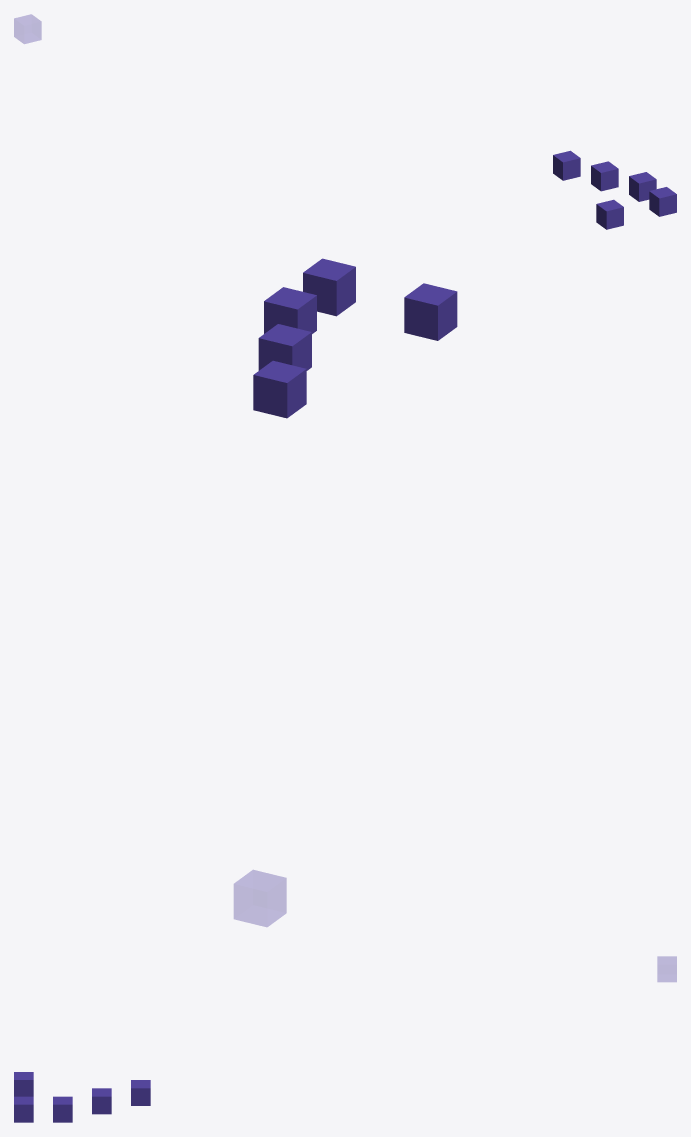
3 renders of one model, top to bottom at view 1: azimuth 30°, elevation 25°; view 2: azimuth 150°, elevation 25°; view 3: azimuth 270°, elevation 25°, orthographic. The views are drawn at different scales.
Parts seen in each view (by area): view 1: object-Cube (×5), void-obj-placeholder-obj; view 2: object-Cube (×5), void-obj-placeholder-obj; view 3: object-Cube (×5), void-obj-placeholder-obj.
Boxes of the visible parts, <box> form: object-Cube (×5): <box>553,150,676,229</box>; void-obj-placeholder-obj: <box>14,14,41,43</box>; object-Cube (×5): <box>253,258,457,418</box>; void-obj-placeholder-obj: <box>234,870,286,926</box>; object-Cube (×5): <box>14,1072,150,1122</box>; void-obj-placeholder-obj: <box>657,956,676,981</box>.
Size of what is drawn, in the model's own units: 18 by 1 by 34.
